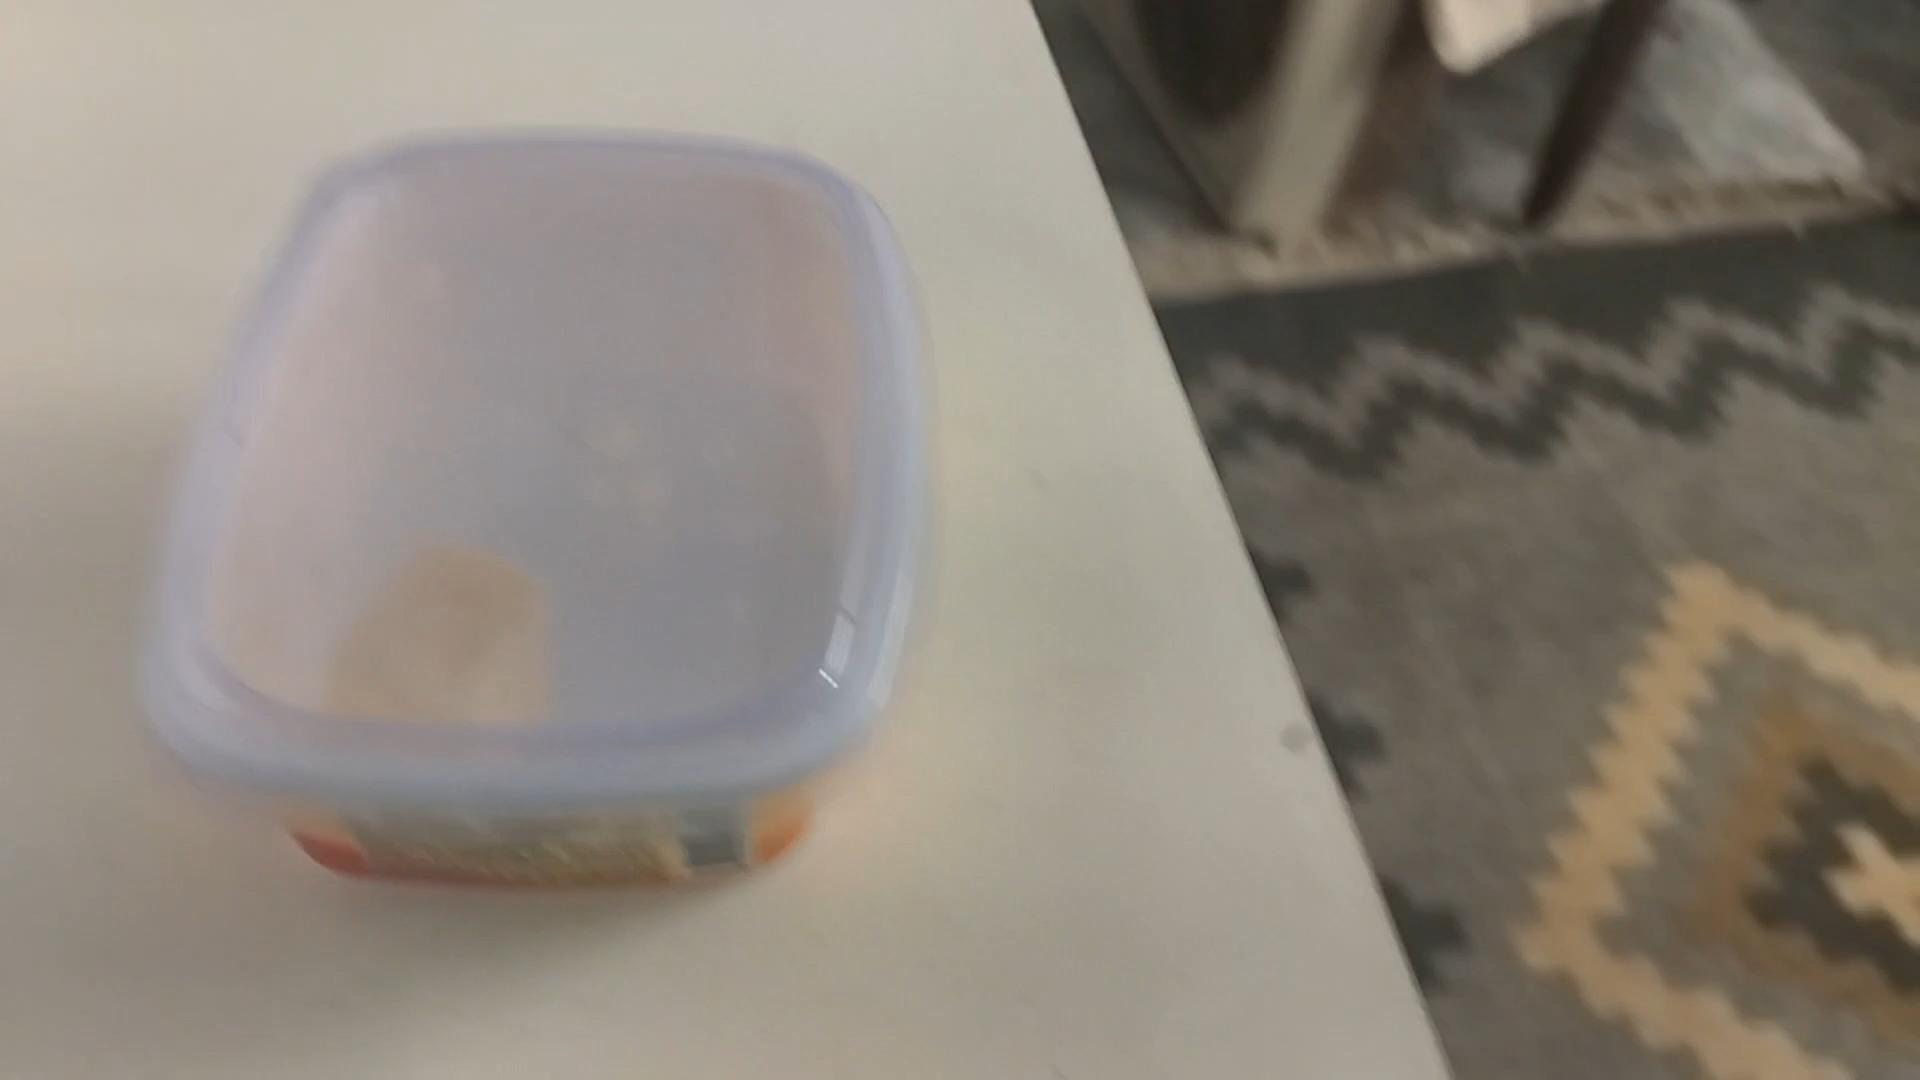butter: (140, 132, 923, 894)
